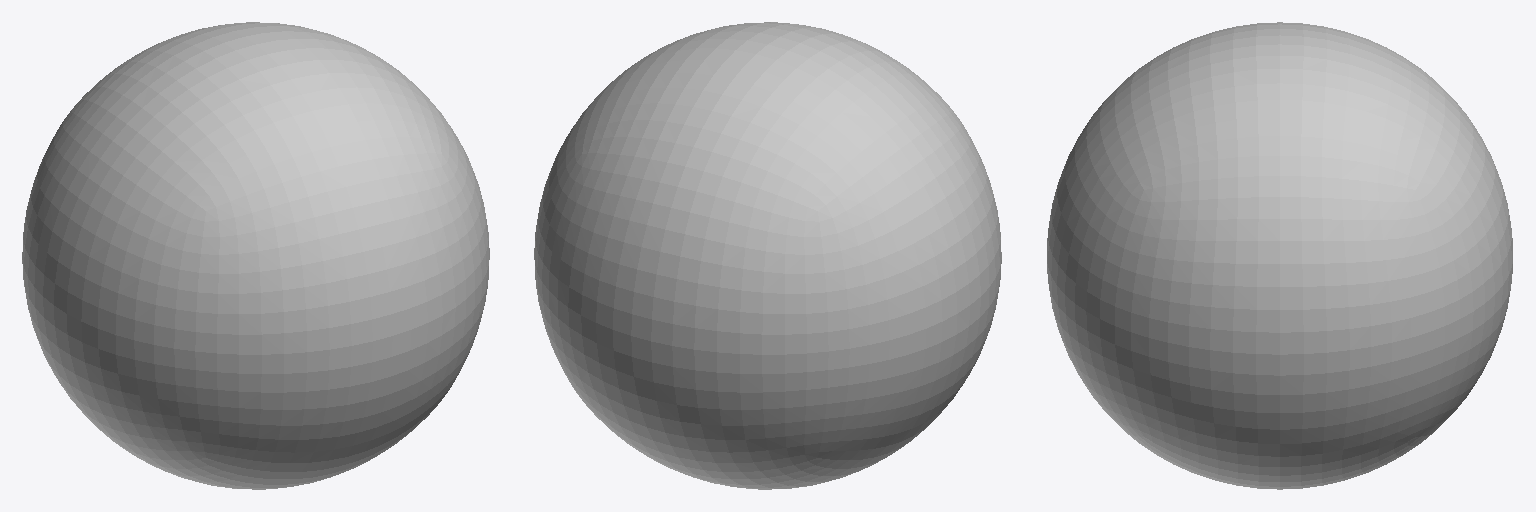
The model's file is mercury.obj.
3 views of the same model, side by side, from view 1: azimuth 30°, elevation 25°; view 2: azimuth 150°, elevation 25°; view 3: azimuth 270°, elevation 25° (orthographic).
Parts seen in each view (by area): view 1: Cube.008_Cube.009; view 2: Cube.008_Cube.009; view 3: Cube.008_Cube.009.
Part boxes in pixels (left/top/right/bottom): Cube.008_Cube.009: left=22, top=22, right=489, bottom=489; Cube.008_Cube.009: left=534, top=22, right=1001, bottom=489; Cube.008_Cube.009: left=1047, top=22, right=1512, bottom=489.
Size of the model in its own units: 4.44 by 4.44 by 4.44.